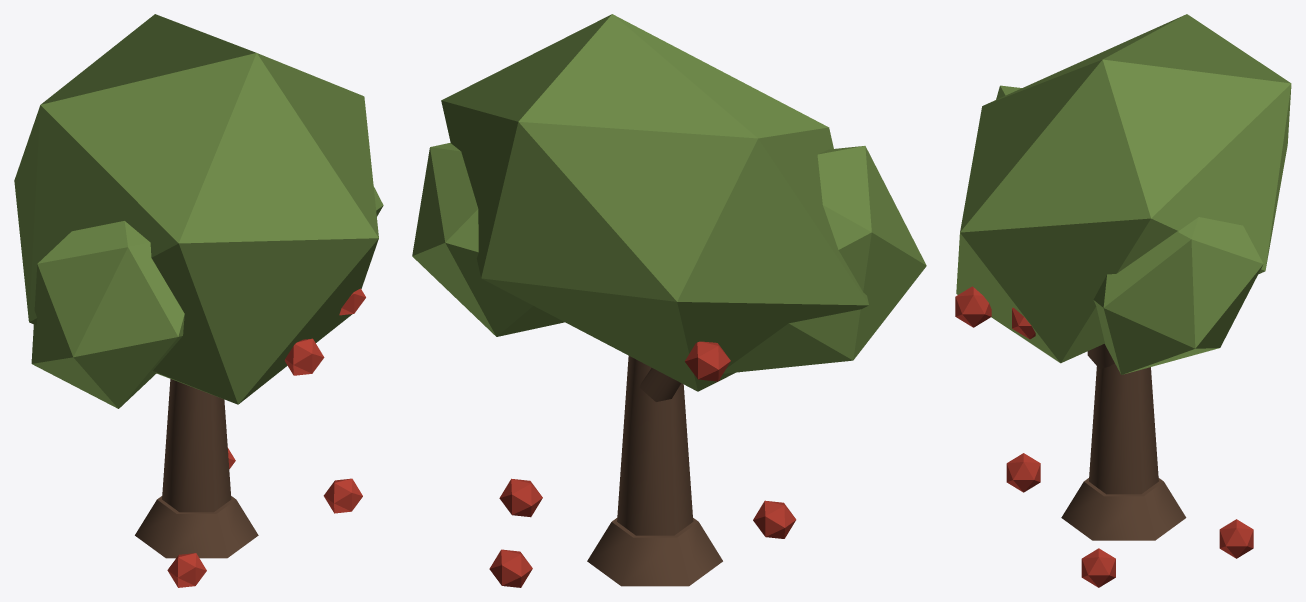
The model's file is resource_food.glb.
The picture shows the model from 3 angles, left to right: view 1: azimuth 30°, elevation 25°; view 2: azimuth 150°, elevation 25°; view 3: azimuth 270°, elevation 25°; orthographic projection. The views are drawn at different scales.
Visible parts, largest first — view 1: resource_food; view 2: resource_food; view 3: resource_food.
Boxes of the visible parts, box(x1,y1,x2,y2) form: resource_food: box(14, 14, 383, 587); resource_food: box(412, 14, 926, 587); resource_food: box(955, 14, 1291, 587).
Bounding box in the file's own units: 3.45 × 4.25 × 2.68.
